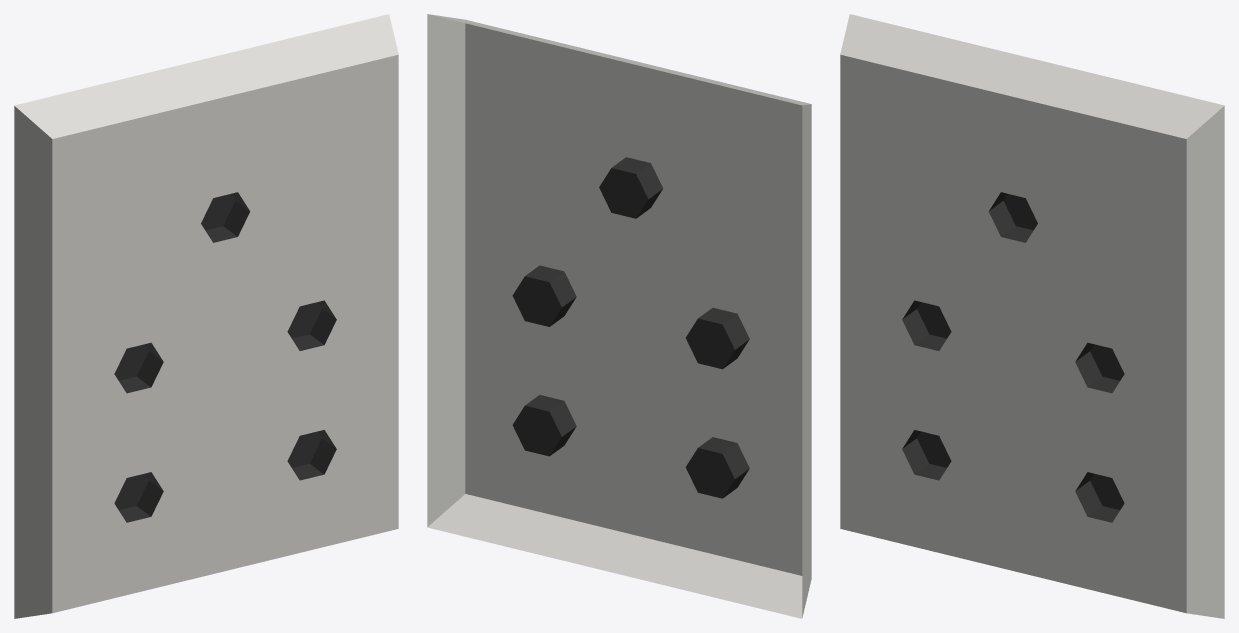
File: Switch_2.fbx
The picture shows the model from 3 angles, left to right: view 1: azimuth 30°, elevation 25°; view 2: azimuth 150°, elevation 25°; view 3: azimuth 330°, elevation 25°; orthographic projection.
Visible parts, largest first — view 1: polySurface1666; view 2: polySurface1666; view 3: polySurface1666.
Boxes of the visible parts, left/top/right/bottom form: polySurface1666: left=14, top=14, right=398, bottom=618; polySurface1666: left=427, top=14, right=811, bottom=618; polySurface1666: left=840, top=14, right=1224, bottom=618.
Size of the model in its own units: 0.182 by 0.2381 by 0.0201.
1 material, 1 textured.
